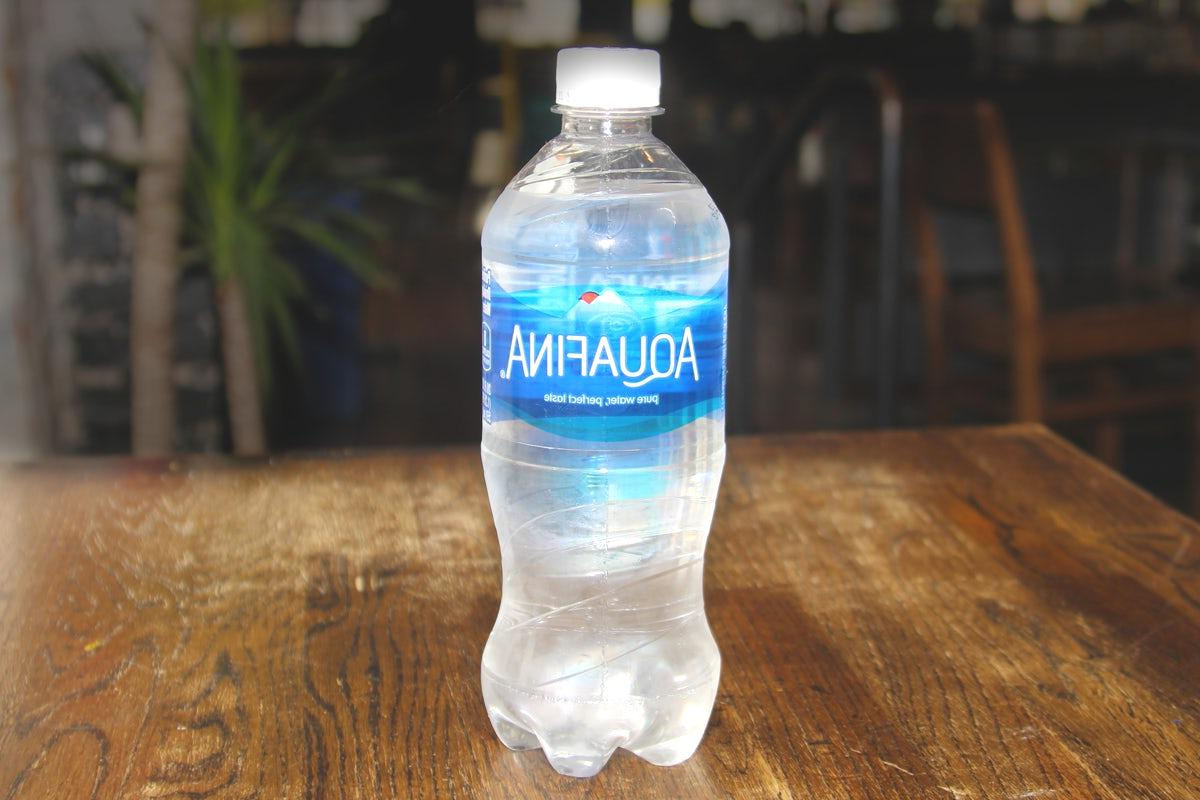bottle: (463, 32, 753, 789)
